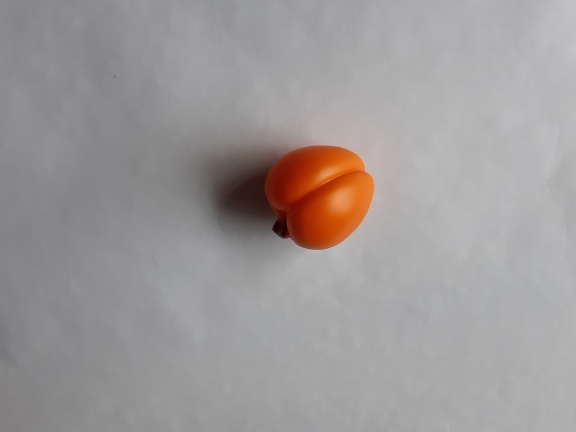apricot: (255, 140, 381, 256)
